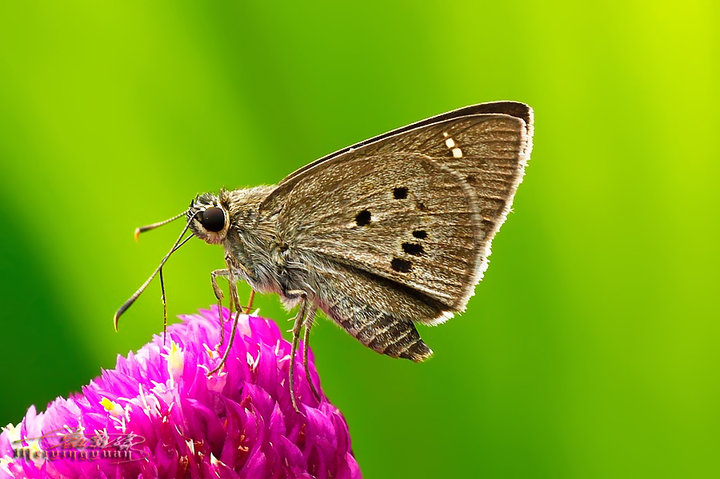feie: (166, 117, 525, 364)
